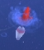active: (8, 3, 41, 44)
